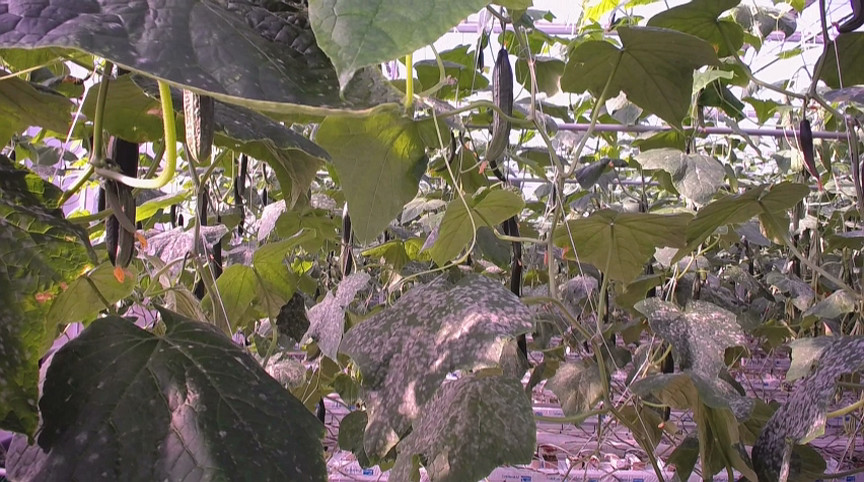cucumber: (483, 48, 513, 162), (179, 86, 214, 163), (799, 119, 821, 178)
